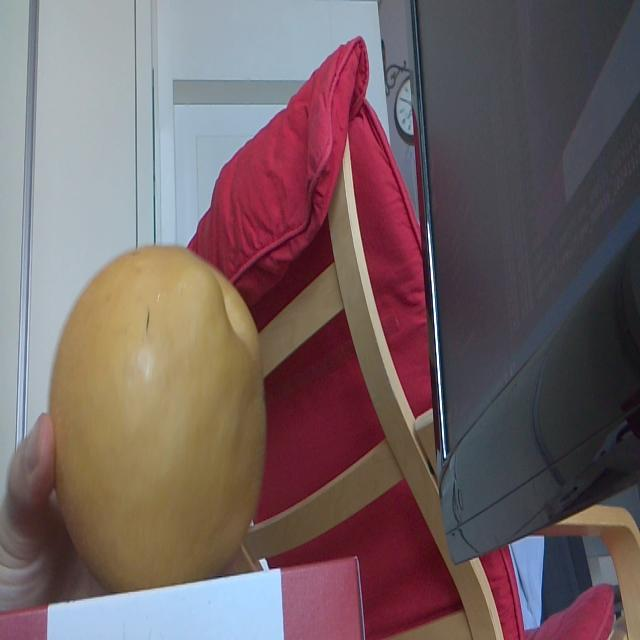pear: (49, 247, 265, 567)
